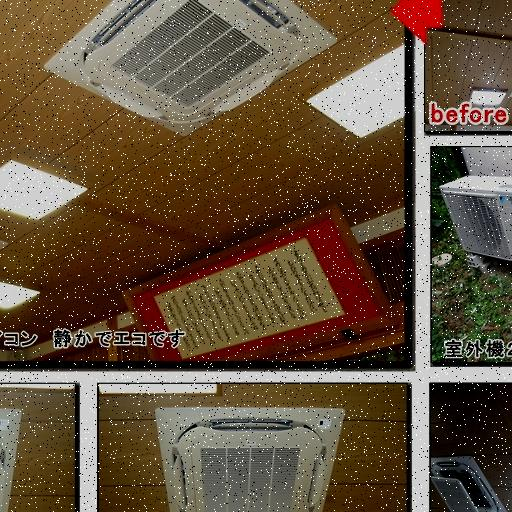4-way-ac: (38, 0, 336, 128), (157, 405, 342, 512), (430, 452, 508, 512)
